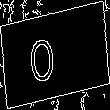O_N: (41, 26, 69, 84)
